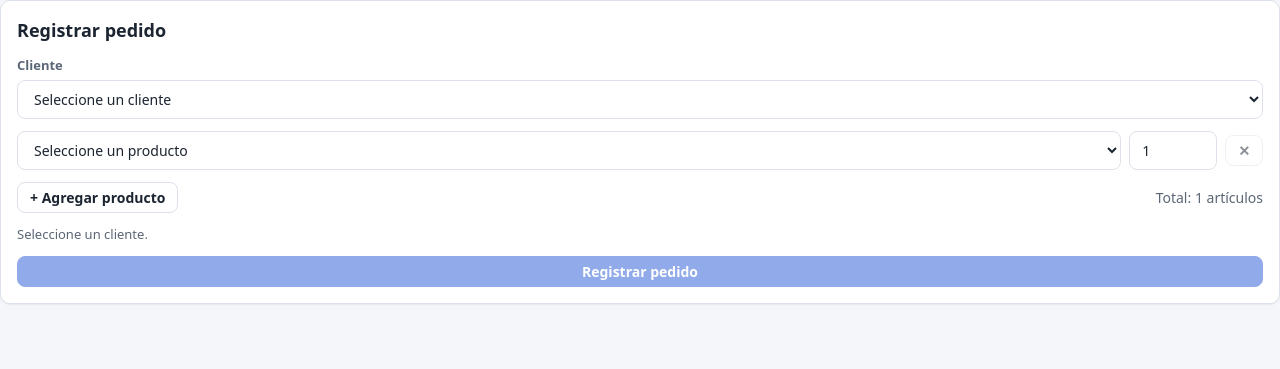
OrderForm › shows the running total of items
Select "Camiseta · Estándar" in the dropdown named "Producto 1" at (569, 150), box [17, 130, 1121, 170]
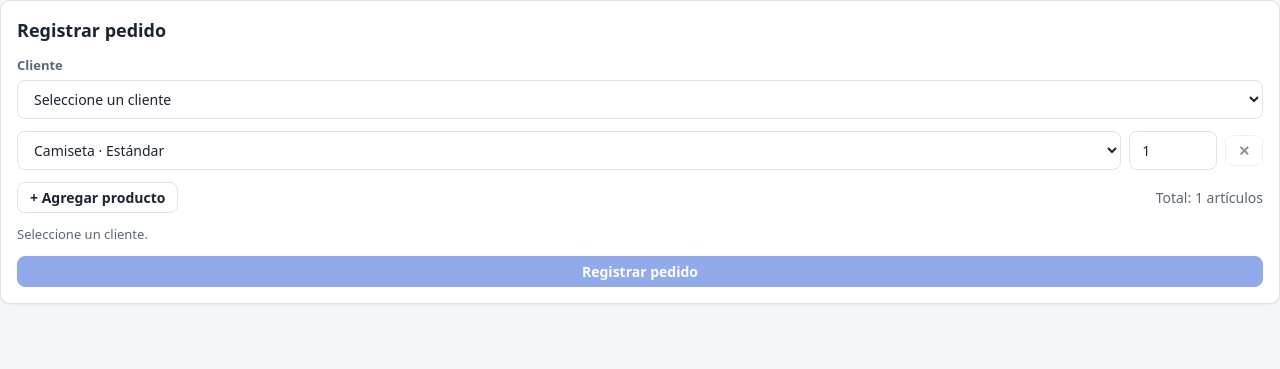
Replace the text in the number field named "Cantidad 1" with "4" at (1173, 150), box [1129, 130, 1217, 170]
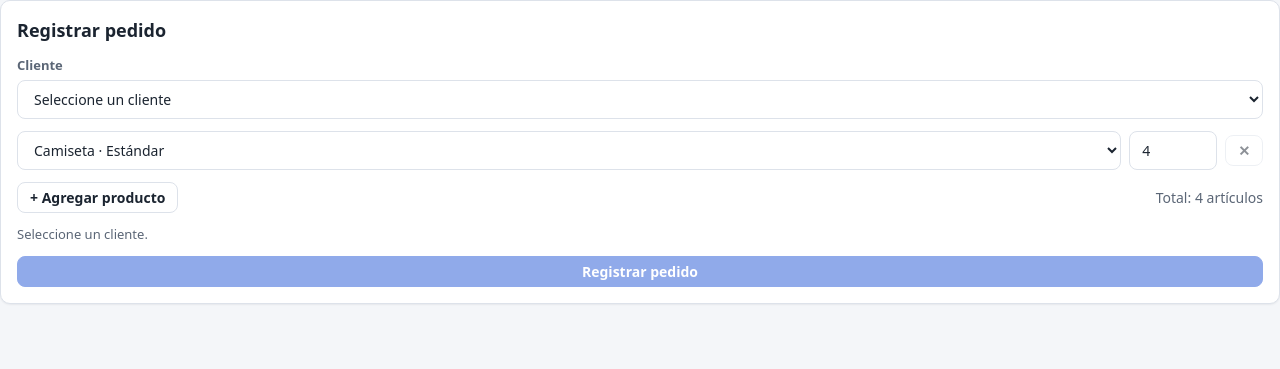
Click the button "+ Agregar producto" at (98, 197), box [17, 182, 178, 212]
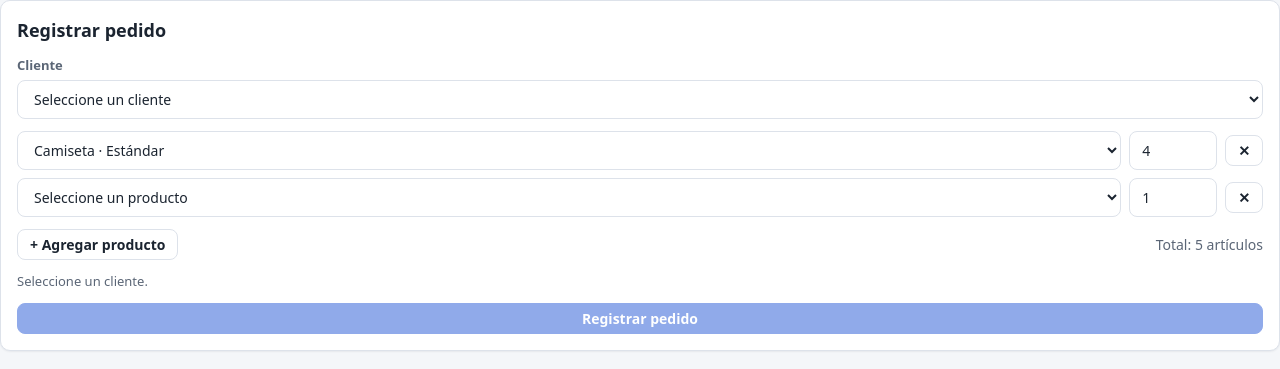
Replace the text in the number field named "Cantidad 2" with "6" at (1173, 197), box [1129, 178, 1217, 216]
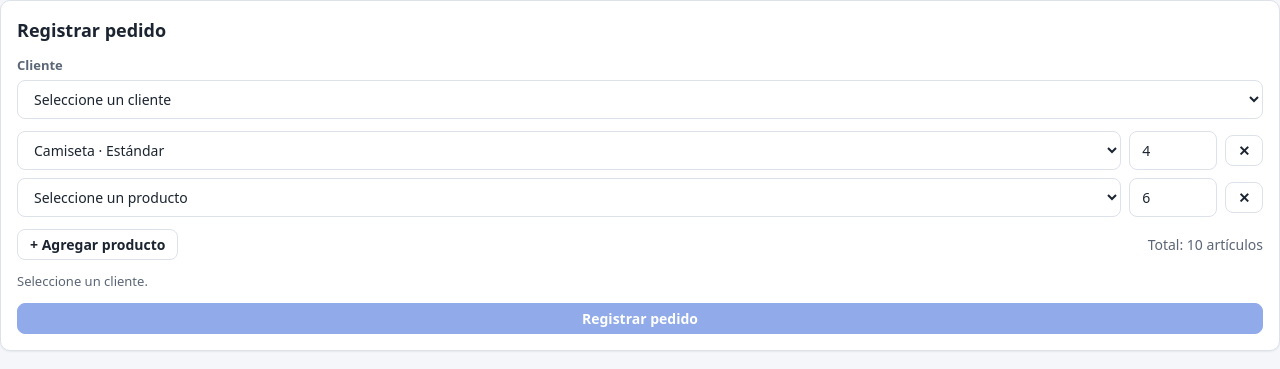
Check: the text "Total: 10 artículos" is shown, box [1148, 234, 1263, 254]
